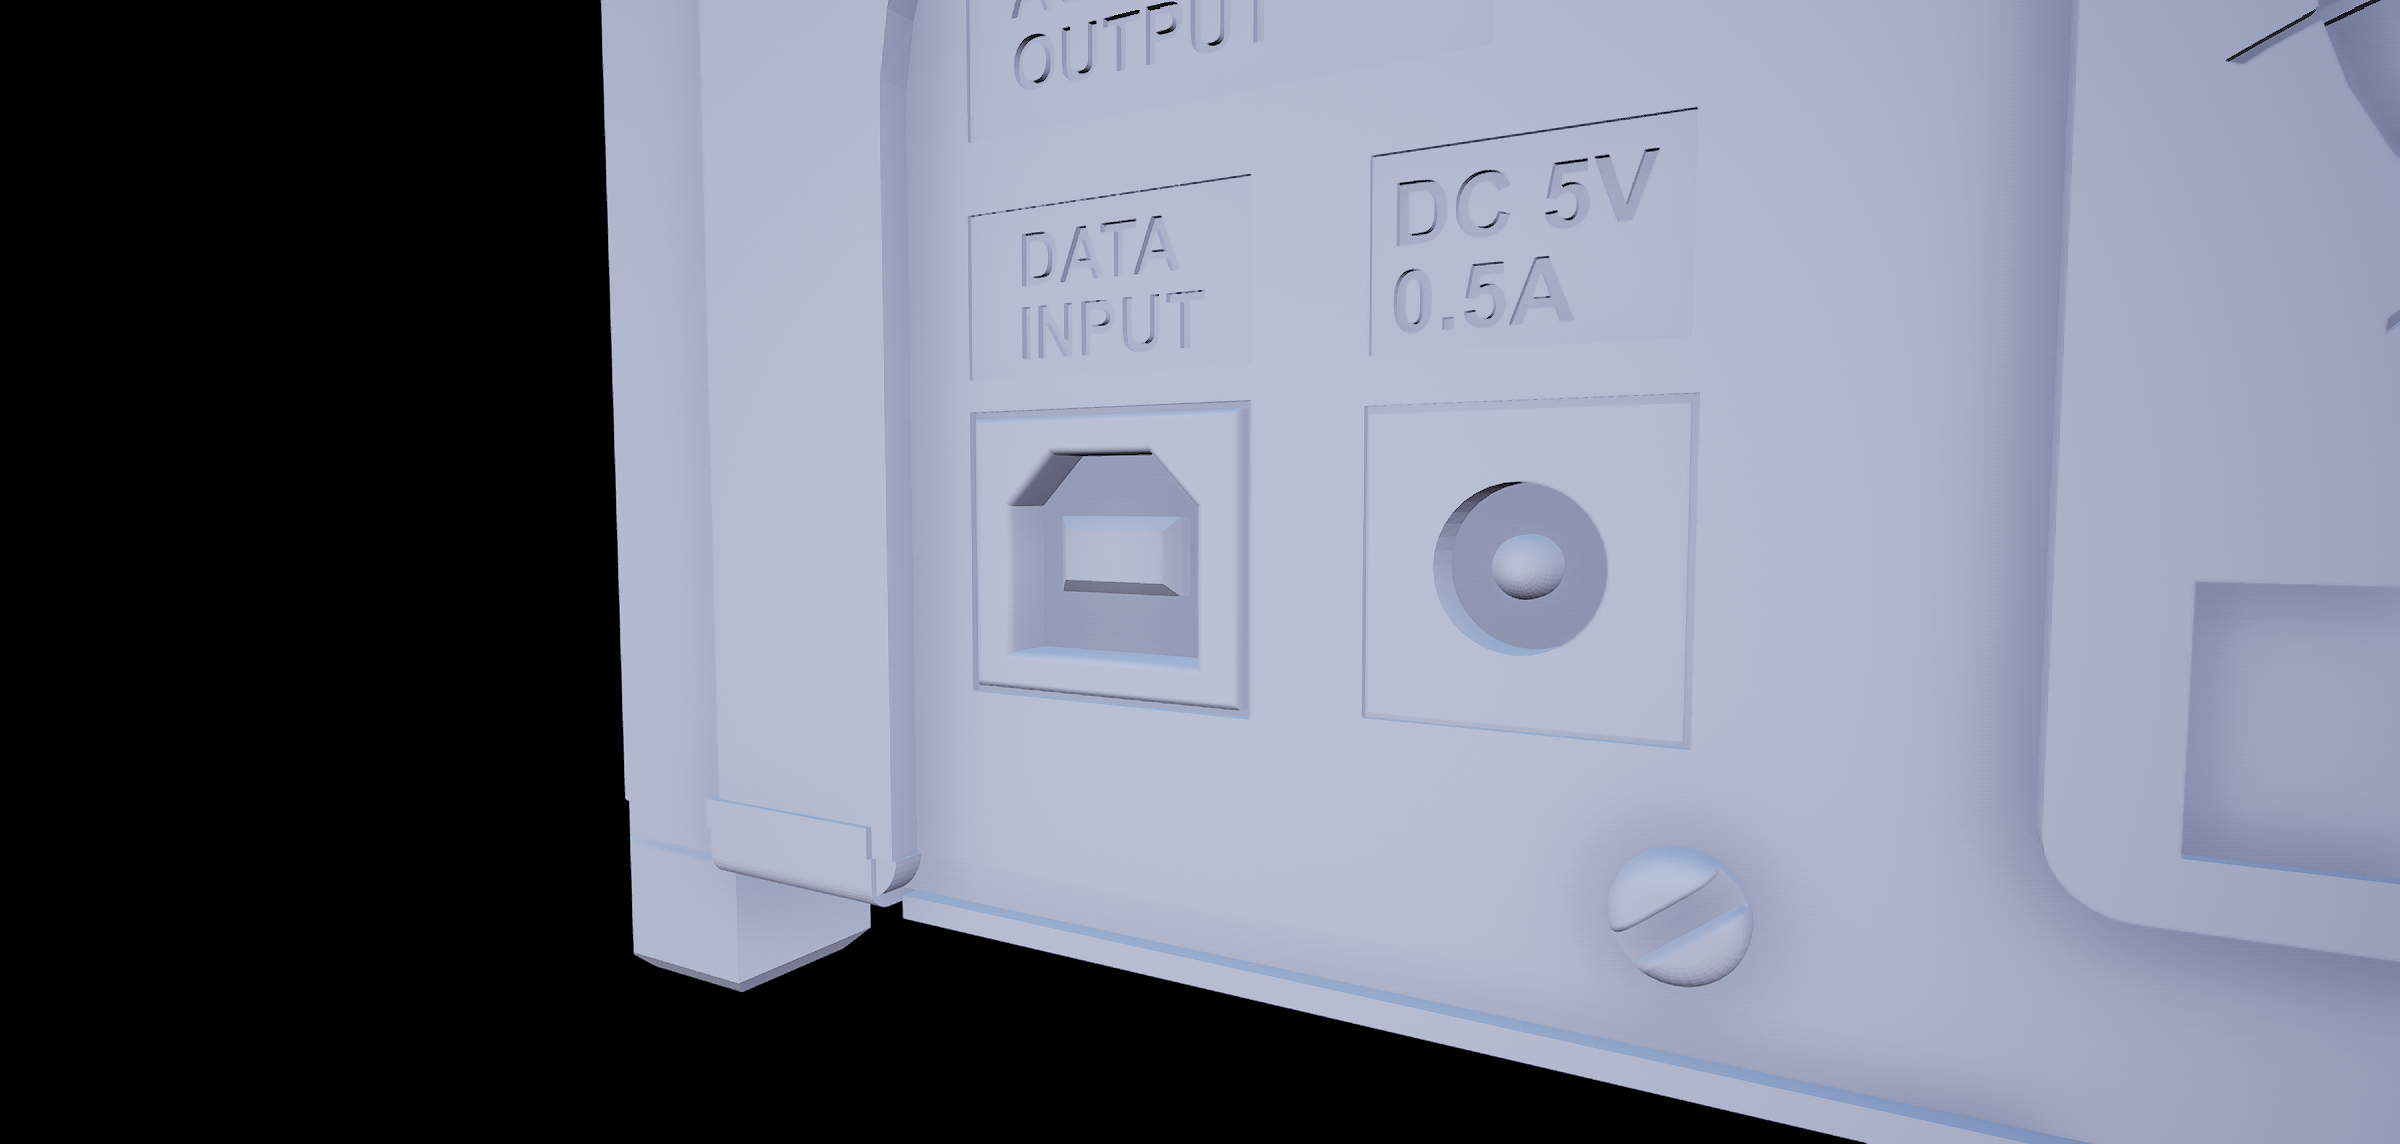dc: (1410, 453, 1639, 678)
usb: (999, 444, 1224, 688)
